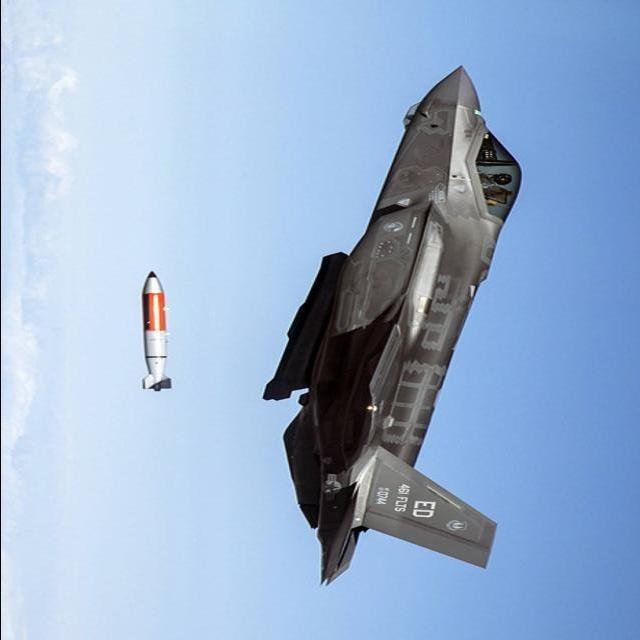missile: (120, 268, 187, 395)
